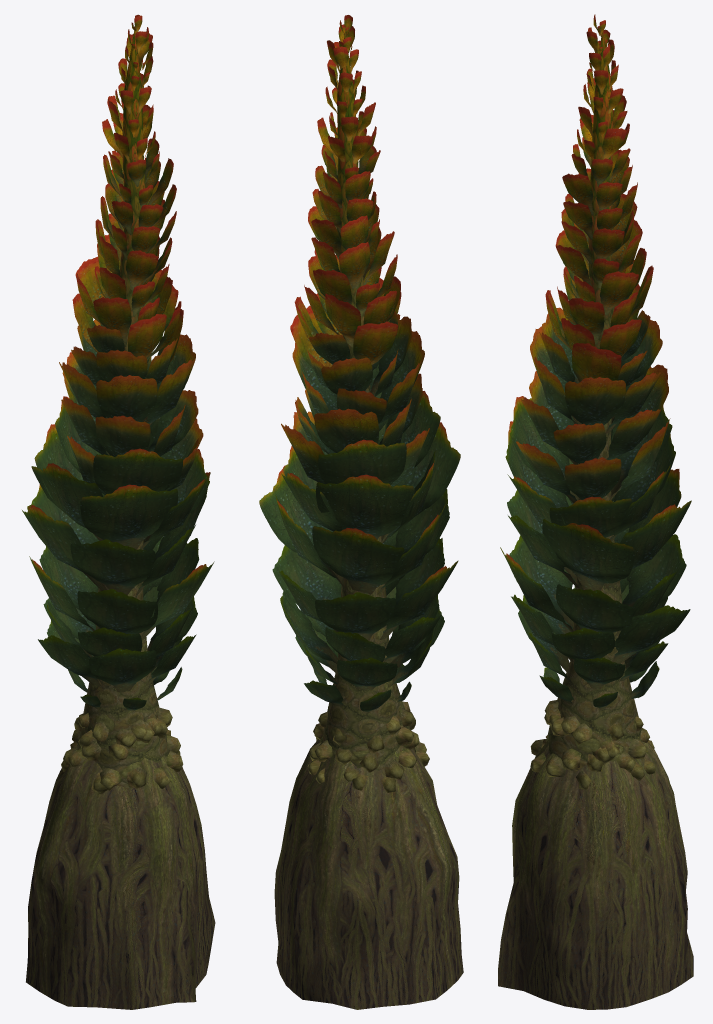
File: Plant4_L1.fbx
3 renders of one model, left to right at view 1: azimuth 30°, elevation 25°; view 2: azimuth 150°, elevation 25°; view 3: azimuth 270°, elevation 25°, orthographic.
Visible parts, largest first — view 1: polySurface171; view 2: polySurface171; view 3: polySurface171.
Part boxes in pixels (x1,y1,x2,y2): polySurface171: (22,14,215,1009); polySurface171: (259,15,463,1009); polySurface171: (498,14,693,1009).
Size of the model in its own units: 86.51 by 453 by 85.92.
